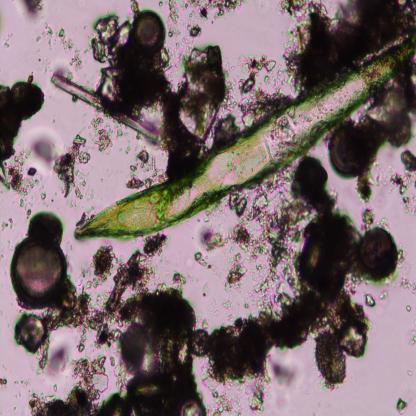Background material: (199, 157, 368, 390), (100, 251, 203, 414), (48, 15, 165, 144), (280, 1, 409, 96), (164, 44, 222, 176), (227, 191, 293, 305), (27, 352, 121, 416), (0, 72, 46, 198), (363, 78, 416, 161), (53, 280, 118, 346), (239, 53, 283, 132), (165, 0, 244, 37), (53, 131, 91, 201), (393, 150, 416, 219), (127, 148, 164, 188), (90, 241, 119, 280), (29, 213, 69, 239), (37, 26, 73, 52), (38, 344, 68, 375), (29, 134, 57, 165), (92, 117, 116, 153), (160, 262, 186, 294), (214, 117, 237, 148), (15, 0, 44, 23), (142, 233, 168, 258), (272, 360, 294, 389), (199, 228, 224, 253), (248, 387, 266, 413), (356, 176, 373, 202), (13, 195, 31, 214), (0, 31, 19, 48), (194, 251, 210, 269), (400, 278, 416, 296), (362, 209, 377, 228), (404, 327, 416, 350), (363, 292, 377, 310), (396, 398, 408, 413), (374, 291, 390, 302), (0, 372, 9, 386), (402, 303, 412, 313)
Diatom: (13, 237, 66, 305), (358, 226, 399, 280), (328, 126, 368, 175), (132, 10, 166, 52), (18, 313, 45, 350), (176, 396, 206, 415)
